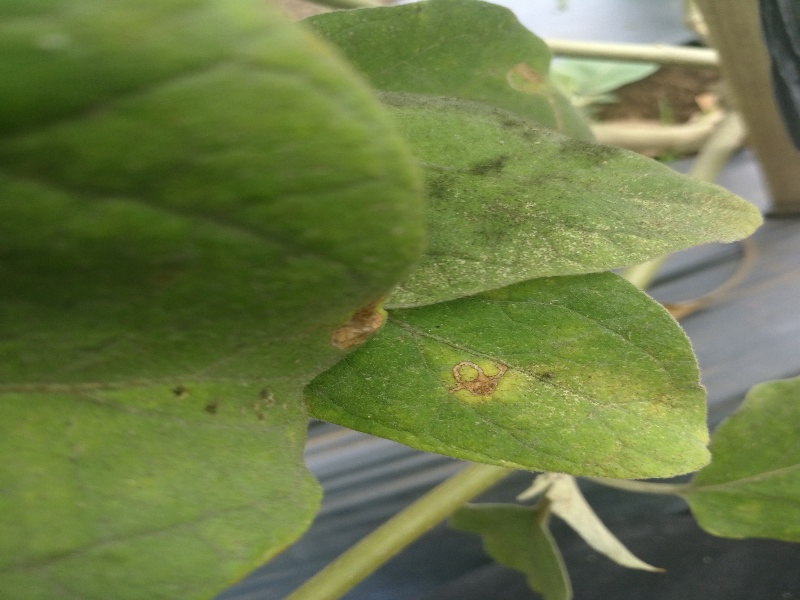leafminer: (426, 346, 516, 411), (328, 285, 403, 355)
